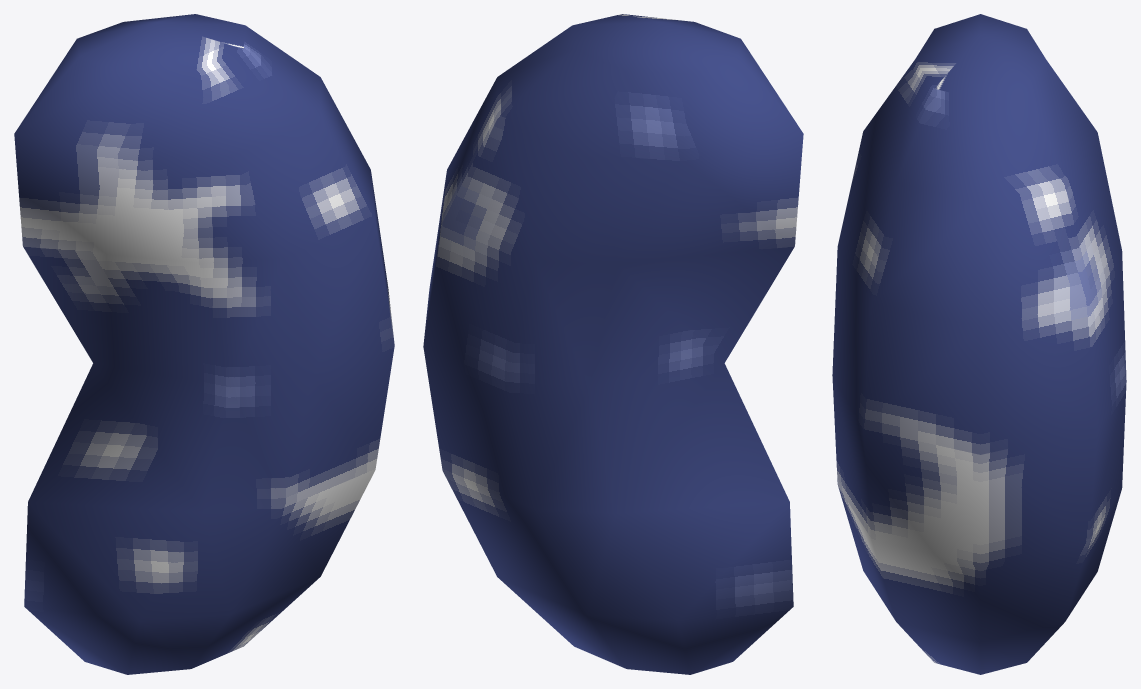
Rendered from bean.obj.
3 views of the same model, side by side, from view 1: azimuth 30°, elevation 25°; view 2: azimuth 150°, elevation 25°; view 3: azimuth 270°, elevation 25° (orthographic). The views are drawn at different scales.
Visible parts, largest first — view 1: bean:Mesh; view 2: bean:Mesh; view 3: bean:Mesh.
Boxes of the visible parts, x1,y1,x2,y2 form: bean:Mesh: [14, 14, 394, 674]; bean:Mesh: [423, 14, 803, 674]; bean:Mesh: [832, 14, 1126, 674].
Bounding box in the file's own units: 13.74 × 22.67 × 9.72.
Materials: 1 (1 with a texture image).
